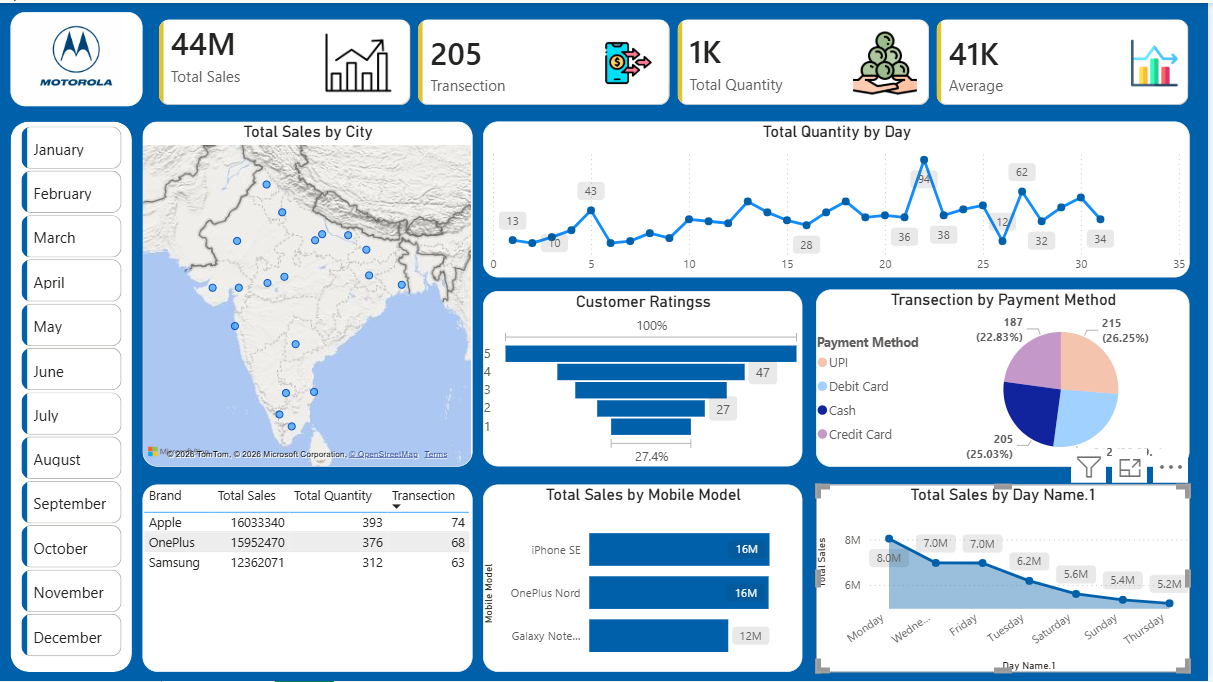

The dashboard page shown, as its layout file describes it:
{"tool":"powerbi","page":{"name":"Page 1","canvas":[1280,720],"ordinal":0},"visuals":[{"type":"image","box":[11.1,9.5,140,100.2],"z":0},{"type":"shape","box":[11.1,125.7,128.8,583.8],"z":1000},{"type":"advancedSlicerVisual","fields":{"Values":["sales_data.Date.Variation.Date Hierarchy.Month"]},"box":[17.5,125.7,116.1,583.8],"z":2000},{"type":"cardVisual","fields":{"Data":["sales_data.Total Sales","sales_data.Transection","sales_data.Total Quantity","sales_data.Average"]},"box":[151.1,0,1129.3,125.7],"z":3000},{"type":"map","fields":{"Category":["sales_data.City"]},"box":[151.1,125.7,349.9,365.8],"z":4000},{"type":"lineChart","fields":{"Y":["sales_data.Total Quantity"],"Category":["sales_data.Date.Variation.Date Hierarchy.Month","sales_data.Date.Variation.Date Hierarchy.Day"]},"box":[512.2,125.7,749.2,165.4],"z":5000},{"type":"clusteredBarChart","fields":{"Category":["sales_data.Mobile Model"],"Y":["sales_data.Total Sales"]},"box":[512.2,510.6,338.8,198.8],"z":6000},{"type":"pieChart","fields":{"Category":["sales_data.Payment Method"],"Y":["sales_data.Transection"]},"box":[865.3,303.8,396.1,187.7],"z":7000},{"type":"funnel","title":"Customer Ratingss","fields":{"Category":["sales_data.Customer Ratings"],"Y":["CountNonNull(sales_data.Customer Ratings)"]},"box":[512.2,305.4,338.8,186.1],"z":8000},{"type":"areaChart","fields":{"Category":["sales_data.Day Name.1"],"Y":["sales_data.Total Sales"]},"box":[865.3,510.6,396.1,198.8],"z":9000},{"type":"tableEx","fields":{"Values":["sales_data.Brand","sales_data.Total Sales","sales_data.Total Quantity","sales_data.Transection"]},"box":[151.1,510.6,349.9,198.8],"z":10000}]}

Visuals, with their boxes in screenshot pixels (x1, y1, x2, y2), scaled from the page's 1280x720 canvas onto the 1213x682 screenshot:
image: [11,9,143,104]
shape: [11,119,133,672]
advancedSlicerVisual - sales_data.Date.Variation.Date Hierarchy.Month: [17,119,127,672]
cardVisual - sales_data.Total Sales x sales_data.Transection: [143,0,1212,119]
map - sales_data.City: [143,119,475,466]
lineChart - sales_data.Total Quantity x sales_data.Date.Variation.Date Hierarchy.Month: [485,119,1195,276]
clusteredBarChart - sales_data.Mobile Model x sales_data.Total Sales: [485,484,806,672]
pieChart - sales_data.Payment Method x sales_data.Transection: [820,288,1195,466]
"Customer Ratingss" funnel: [485,289,806,466]
areaChart - sales_data.Day Name.1 x sales_data.Total Sales: [820,484,1195,672]
tableEx - sales_data.Brand x sales_data.Total Sales: [143,484,475,672]
